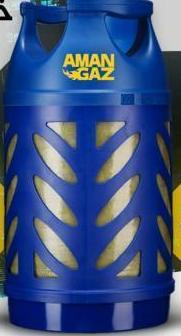cylinder: (1, 0, 181, 336)
